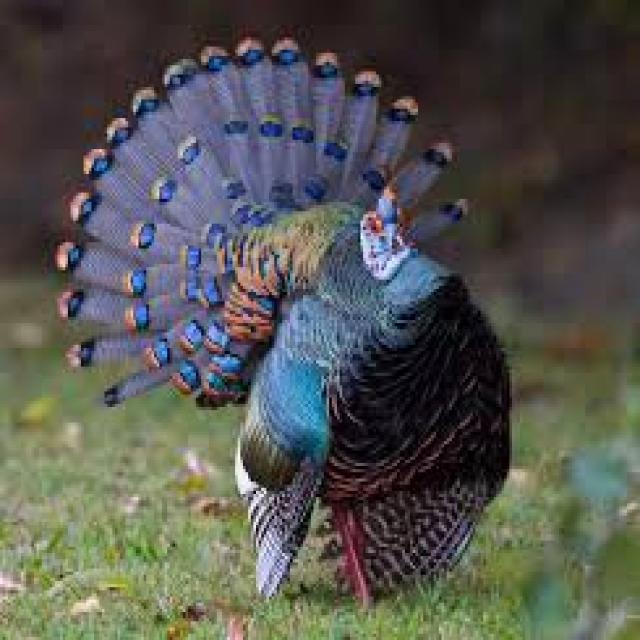turkey: (55, 37, 507, 600)
